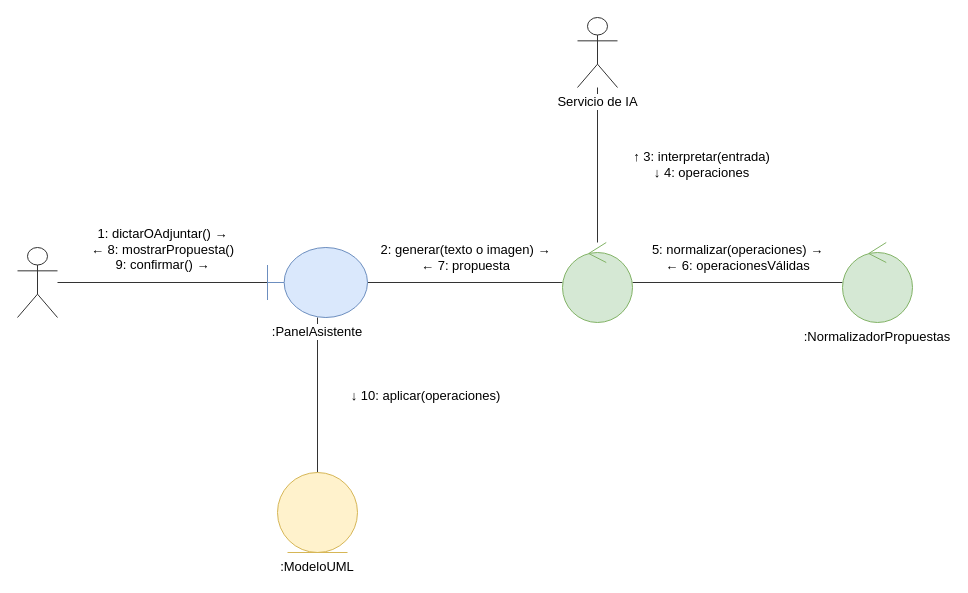
The diagram is 968 pixels wide and 593 high, and some of its shapes have lost their labels. The box of each missing label's shape, as (x1, y1, x2, y2) in pixels:
:GestorIA: (562, 242, 632, 322)
Editor: (16, 246, 58, 318)
